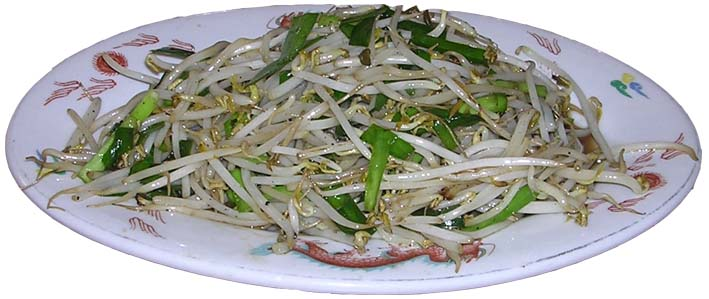mung_bean_sprouts: (163, 37, 562, 218), (327, 66, 614, 218), (124, 77, 339, 220), (243, 17, 503, 131)
